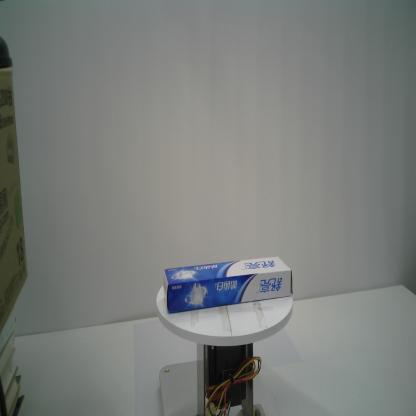Personal Hygiene: (162, 255, 294, 315)
